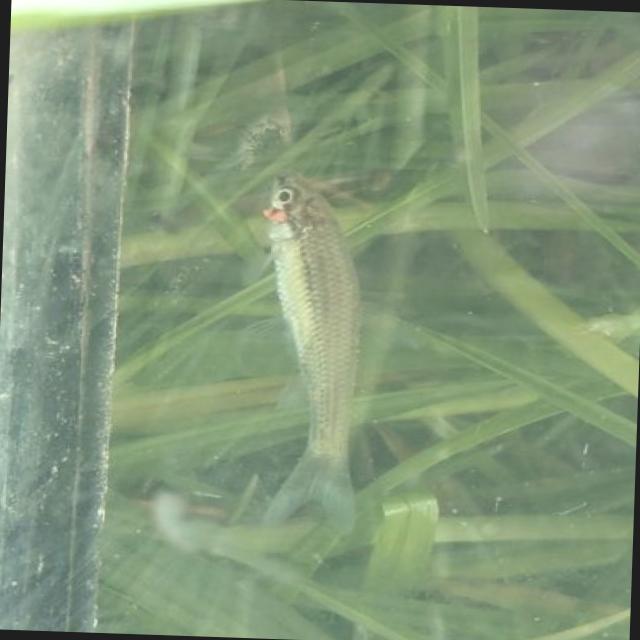Cakil Baligi: (245, 168, 380, 540)
